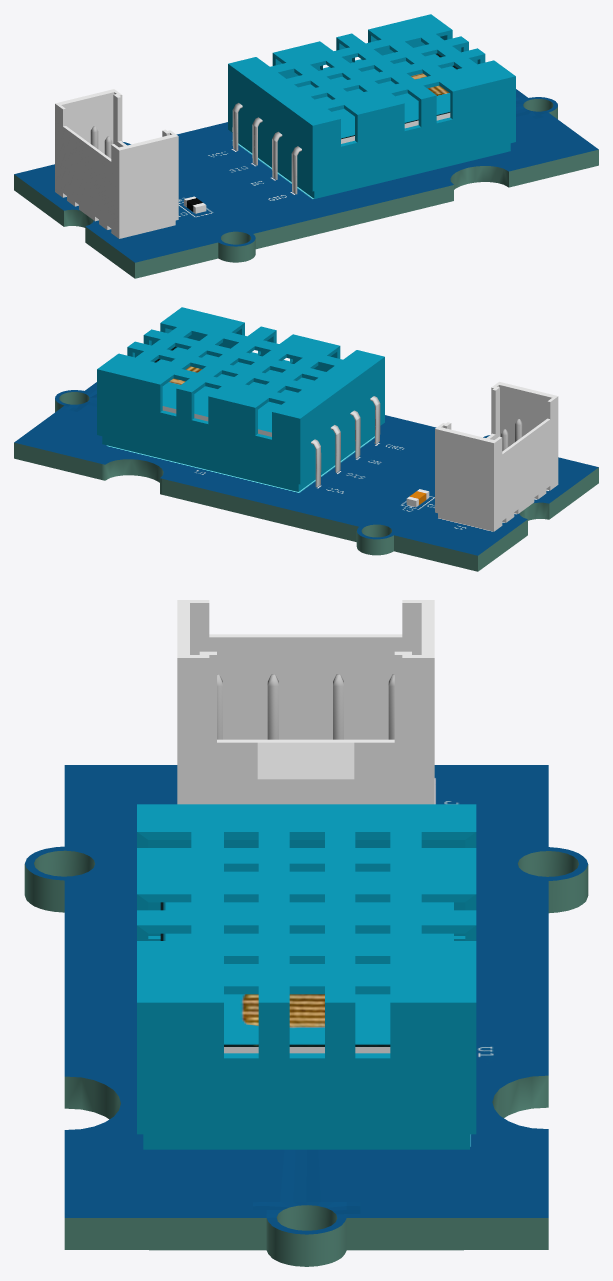
Rendered from DHT11Sensor.obj.
The picture shows the model from 3 angles, top to bottom: view 1: azimuth 30°, elevation 25°; view 2: azimuth 150°, elevation 25°; view 3: azimuth 270°, elevation 25°; orthographic projection. The views are drawn at different scales.
Parts seen in each view (by area): view 1: DHT11_DHT11Mat; view 2: DHT11_DHT11Mat; view 3: DHT11_DHT11Mat.
Part boxes in pixels (x1,y1,x2,y2): DHT11_DHT11Mat: [14, 14, 598, 278]; DHT11_DHT11Mat: [14, 307, 598, 571]; DHT11_DHT11Mat: [24, 600, 588, 1266].
Bounding box in the file's own units: 4.36 × 0.9067 × 2.21.
1 material, 1 textured.
